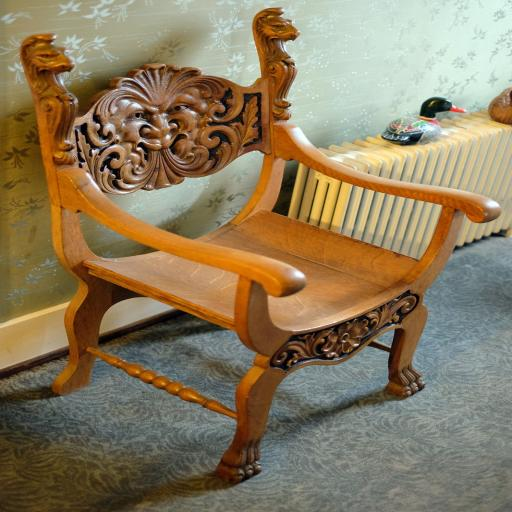chair: (20, 7, 502, 484)
wall: (0, 0, 512, 380)
